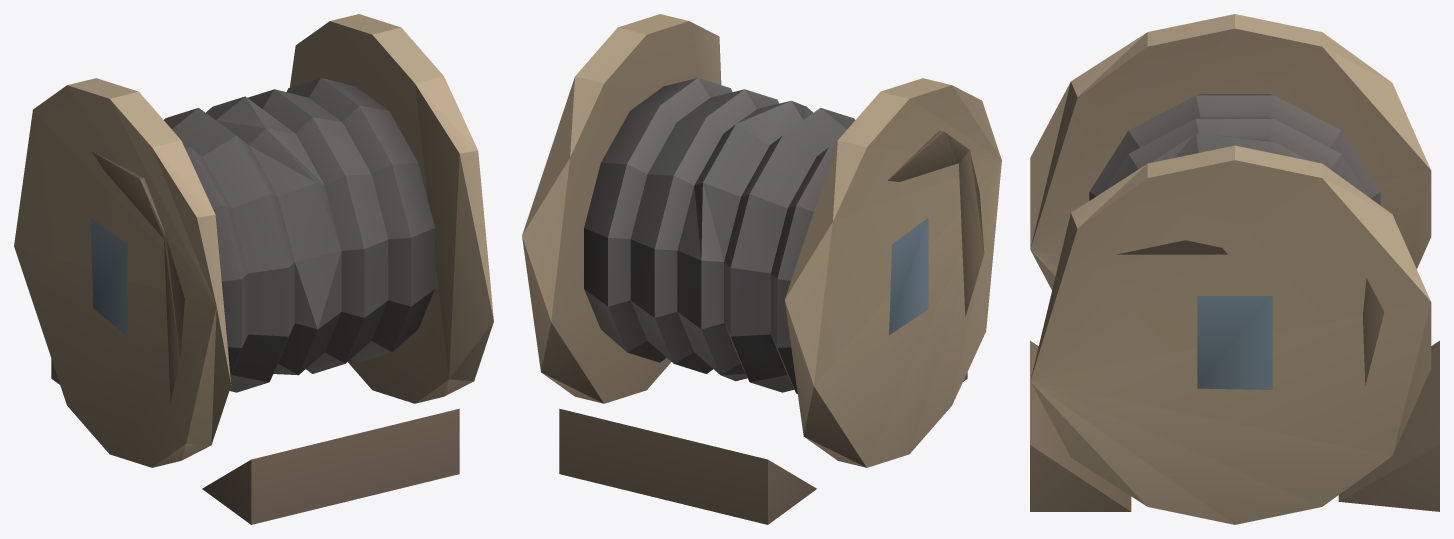
The model's file is spool.lod1.glb.
The picture shows the model from 3 angles, left to right: view 1: azimuth 30°, elevation 25°; view 2: azimuth 150°, elevation 25°; view 3: azimuth 270°, elevation 25°; orthographic projection. The views are drawn at different scales.
Bounding box in the file's own units: 1.42 × 1.66 × 1.66.
